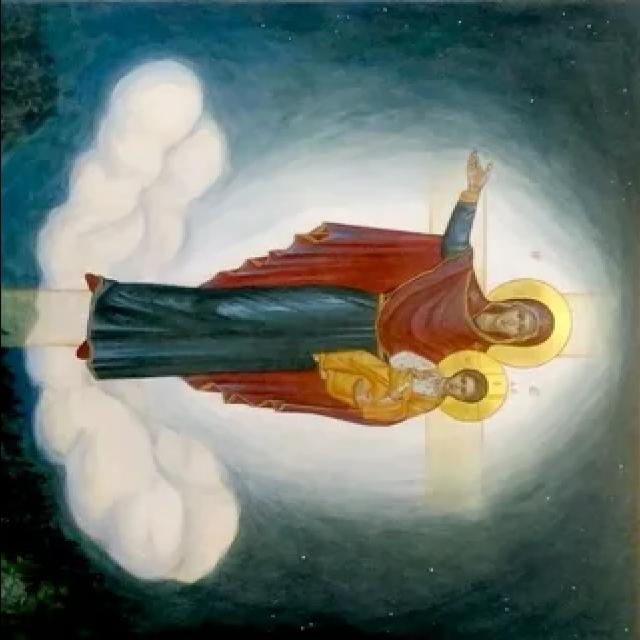mother of god: (73, 145, 566, 437)
